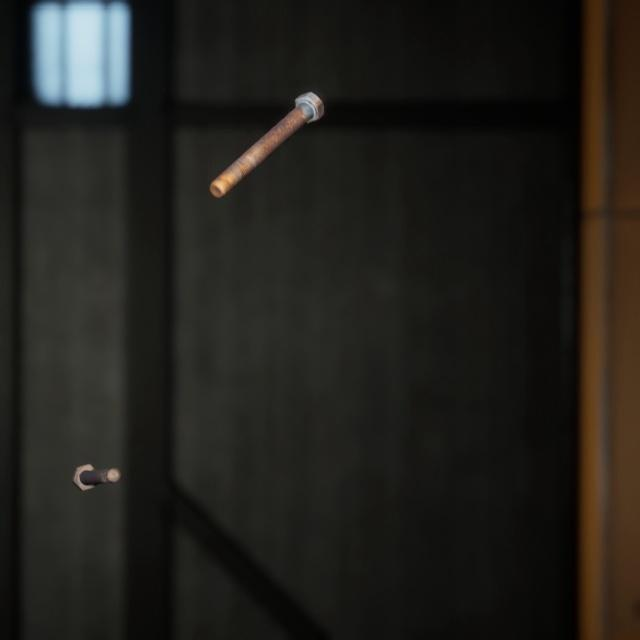bolt: (205, 74, 328, 188), (67, 439, 125, 475)
